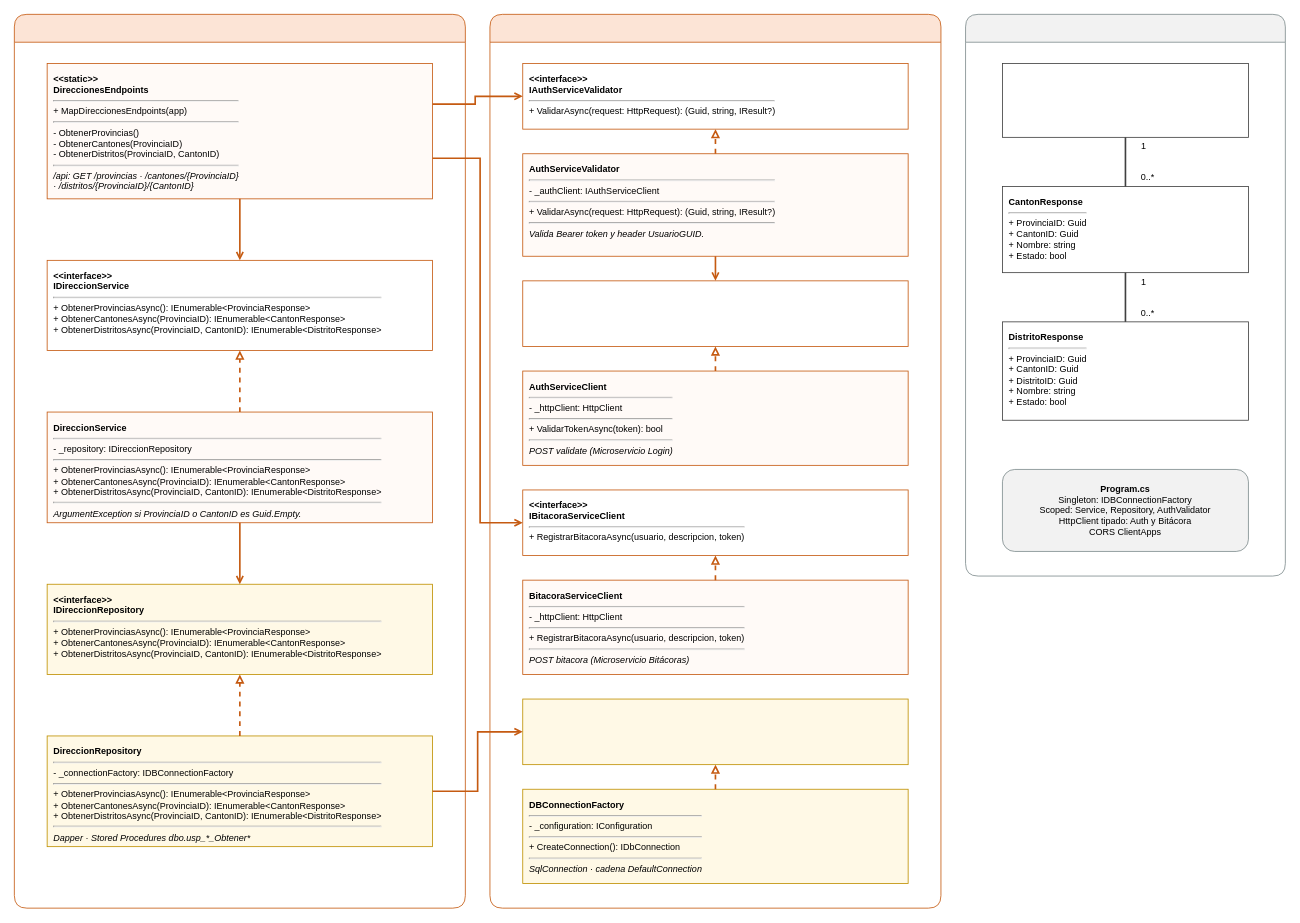
Image size: 1300x923. Some labels were removed from this diagram. Here are the shapes that lost their labels. From the top down, the box of each, then its label:
(1002, 63, 1248, 137): ProvinciaResponse + ProvinciaID: Guid + Nombre: string + Estado: bool
(522, 280, 908, 346): <<interface>> IAuthServiceClient + ValidarTokenAsync(token): bool
(965, 14, 1285, 576): CLASES DEL DOMINIO
(14, 14, 465, 908): MAT4 — DIRECCIONES
(489, 14, 941, 908): SEGURIDAD, BITÁCORA E INFRAESTRUCTURA
(522, 698, 908, 765): <<interface>> IDBConnectionFactory + CreateConnection(): IDbConnection
